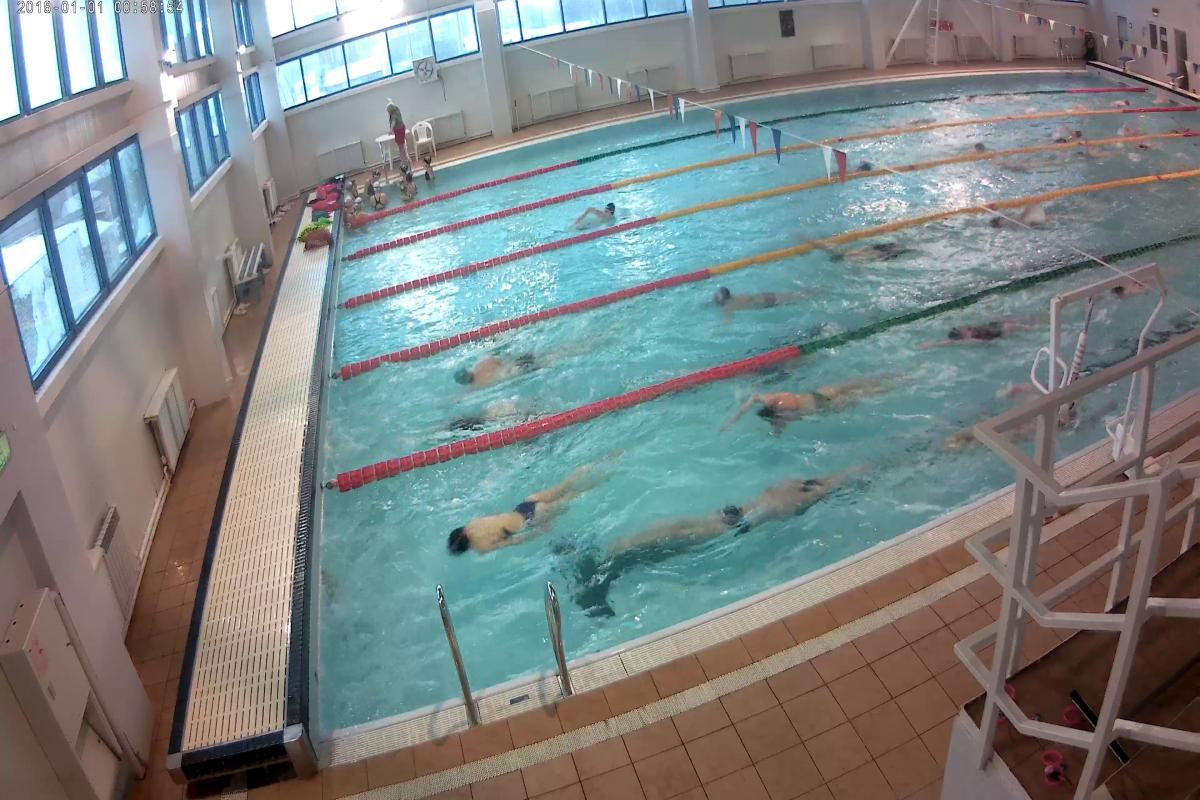swimmer: (603, 481, 826, 558), (449, 463, 601, 541), (743, 378, 888, 424), (693, 284, 819, 320), (448, 349, 572, 383), (935, 310, 1050, 346), (550, 196, 633, 239), (440, 406, 550, 437), (826, 232, 918, 269), (991, 213, 1050, 235)
